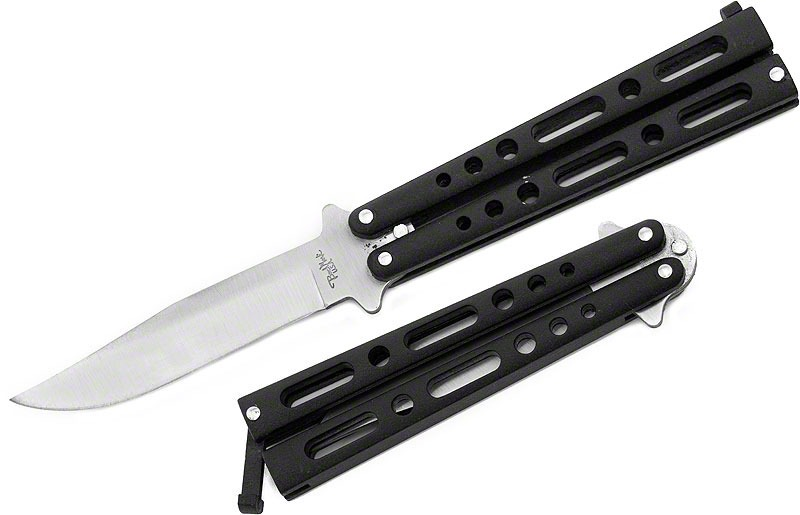knife: (9, 7, 800, 413), (218, 216, 706, 503)
